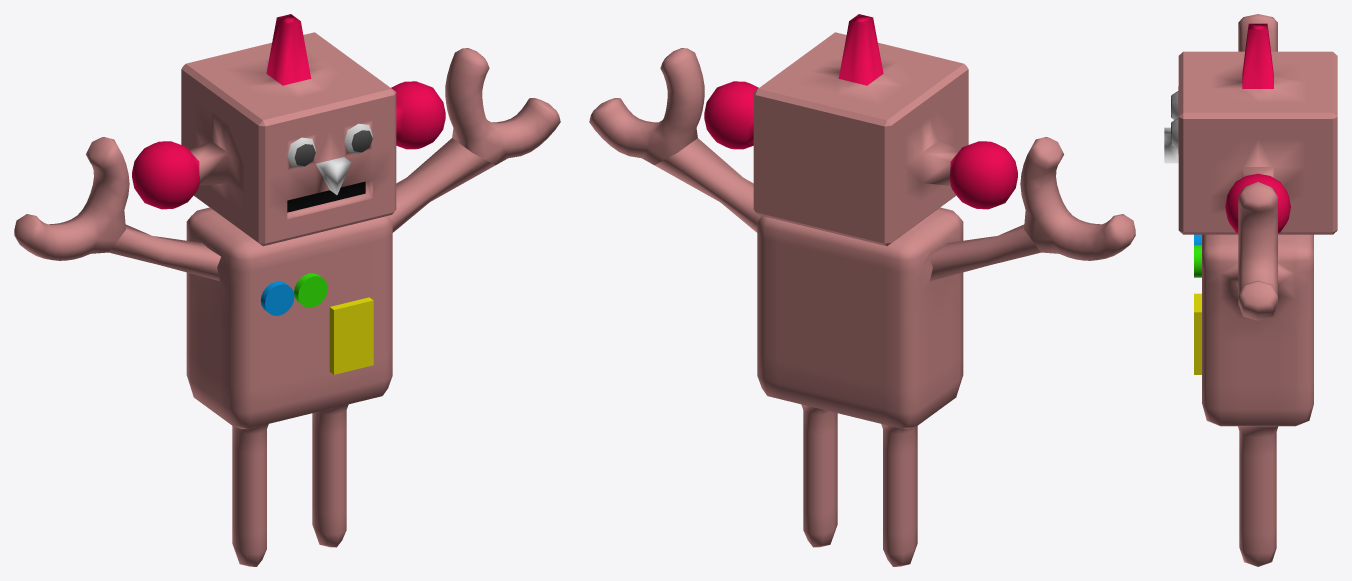
File: ロボット(オレンジ).fbx
3 renders of one model, left to right at view 1: azimuth 30°, elevation 25°; view 2: azimuth 150°, elevation 25°; view 3: azimuth 270°, elevation 25°, orthographic. The views are drawn at different scales.
Visible parts, largest first — view 1: pCube9; view 2: pCube9; view 3: pCube9.
Boxes of the visible parts, x1,y1,x2,y2 form: pCube9: (14, 14, 560, 566); pCube9: (589, 14, 1135, 566); pCube9: (1164, 14, 1337, 566).
Size of the model in its own units: 4.98 by 4.74 by 1.43.
